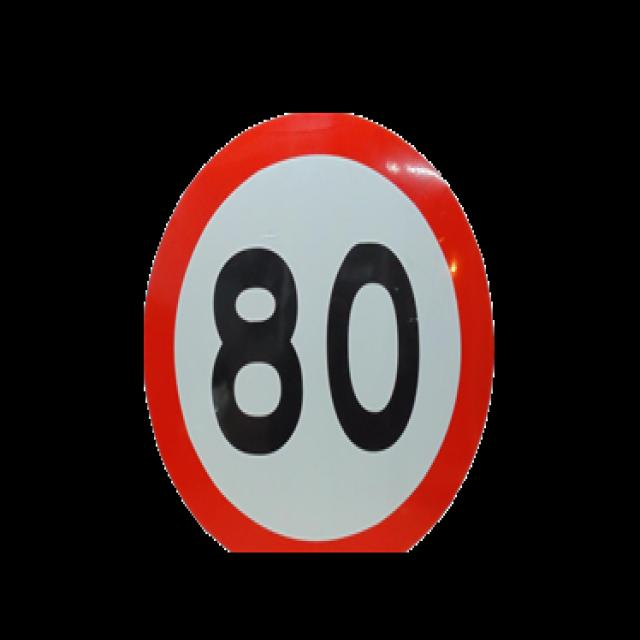speed limit 80: (140, 107, 494, 561)
